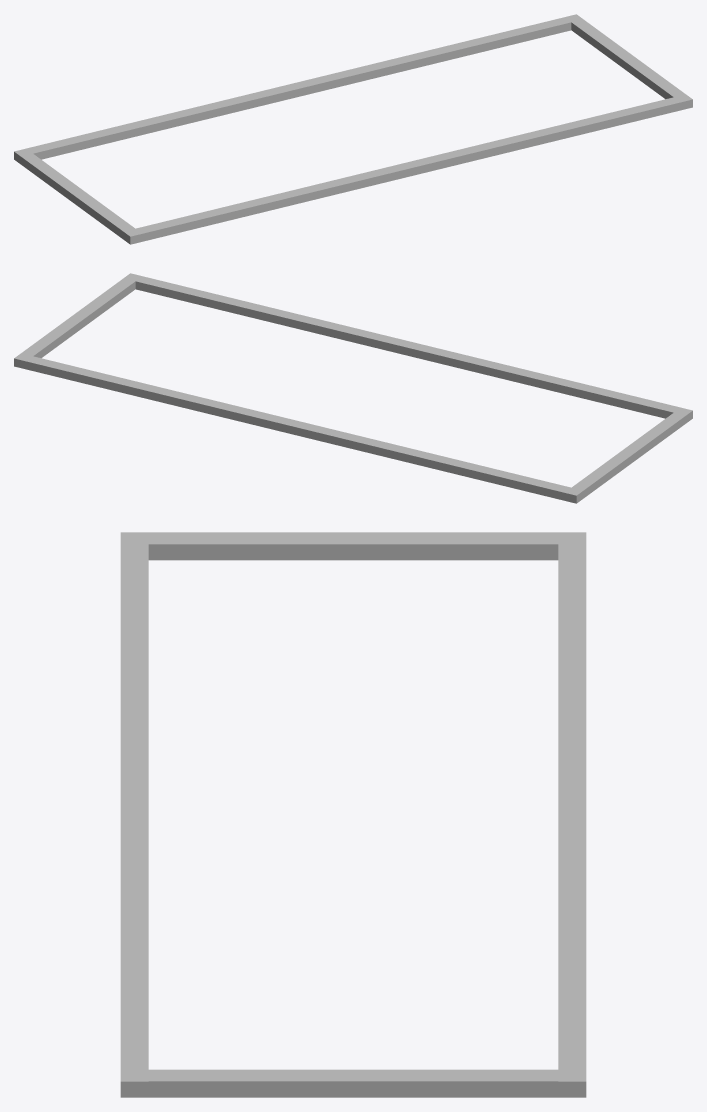
The model's file is boundary_weapon_unselected.dae.
3 renders of one model, top to bottom at view 1: azimuth 30°, elevation 25°; view 2: azimuth 150°, elevation 25°; view 3: azimuth 270°, elevation 25°, orthographic. The views are drawn at different scales.
Visible parts, largest first — view 1: Cube.002, Cube, Cube.001, Cube.003; view 2: Cube, Cube.002, Cube.001, Cube.003; view 3: Cube.002, Cube, Cube.001, Cube.003.
Boxes of the visible parts, x1=… form: Cube.002: x1=123, y1=95, x2=692, y2=244; Cube: x1=14, y1=14, x2=582, y2=164; Cube.001: x1=19, y1=151, x2=138, y2=238; Cube.003: x1=571, y1=19, x2=688, y2=99; Cube: x1=14, y1=353, x2=583, y2=503; Cube.002: x1=124, y1=273, x2=692, y2=423; Cube.001: x1=569, y1=409, x2=686, y2=497; Cube.003: x1=21, y1=276, x2=137, y2=358; Cube.002: x1=120, y1=532, x2=148, y2=1097; Cube: x1=558, y1=532, x2=586, y2=1097; Cube.001: x1=130, y1=532, x2=568, y2=560; Cube.003: x1=137, y1=1069, x2=562, y2=1097.
Size of the model in its own units: 8.76 by 3.14 by 0.1195.
Materials: 4 (4 with a texture image).
